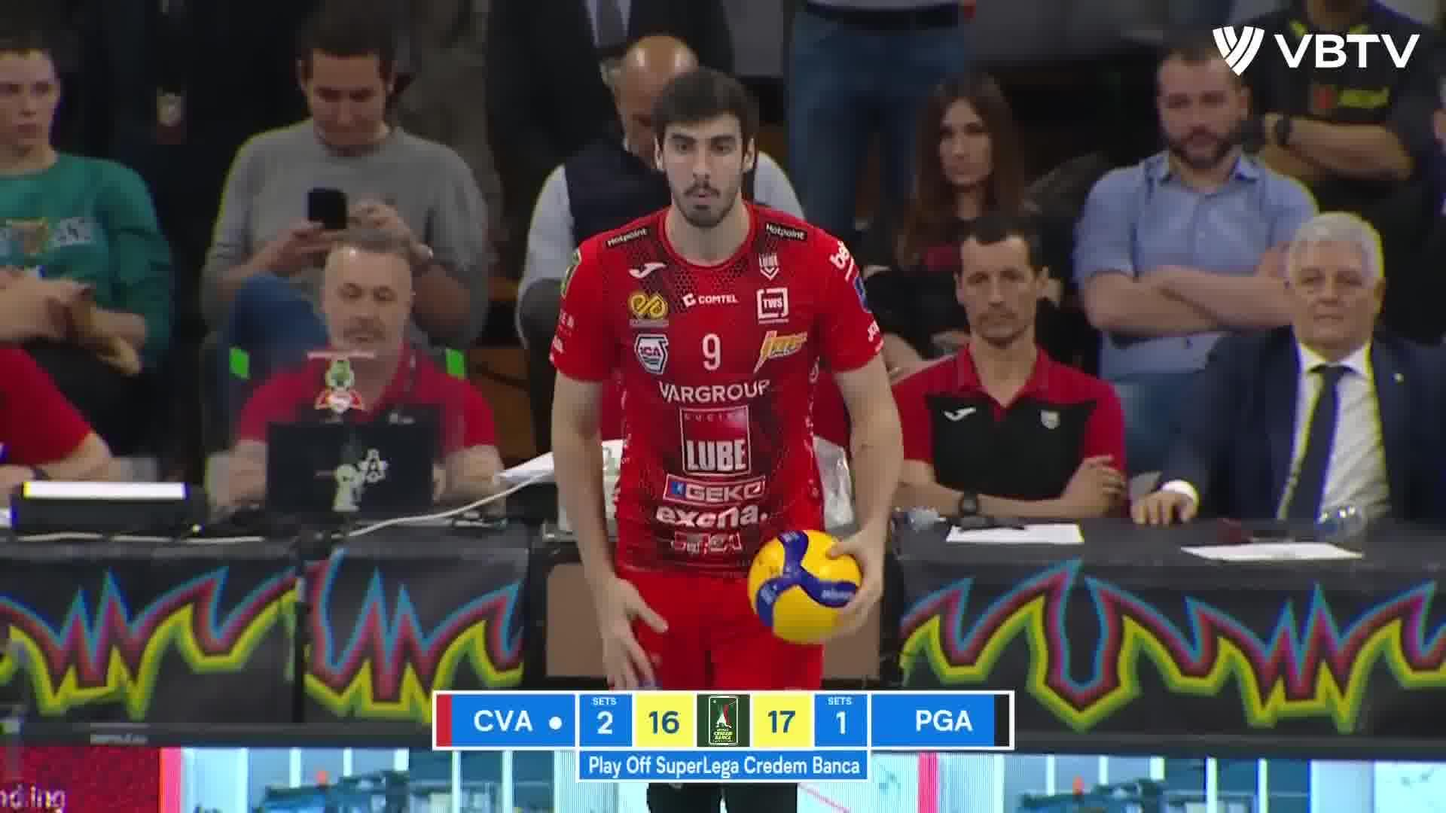balls: (748, 528, 865, 644)
